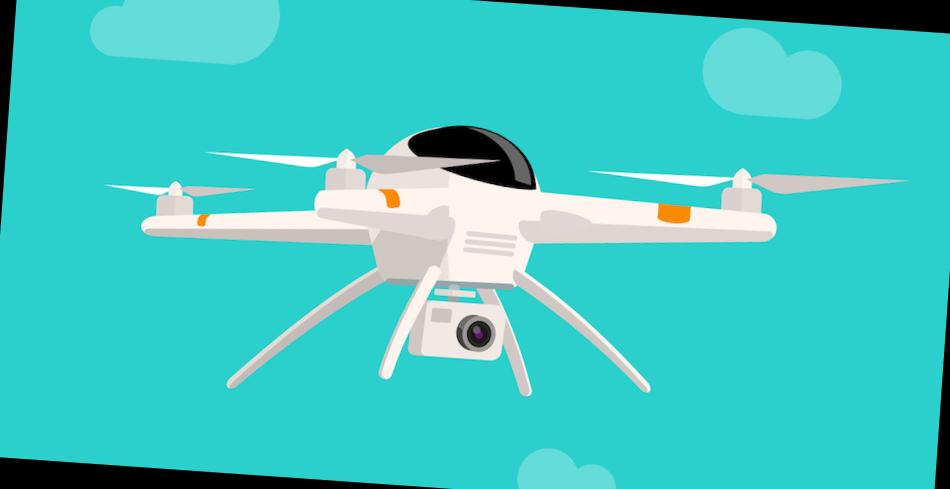drone: (45, 87, 900, 397)
